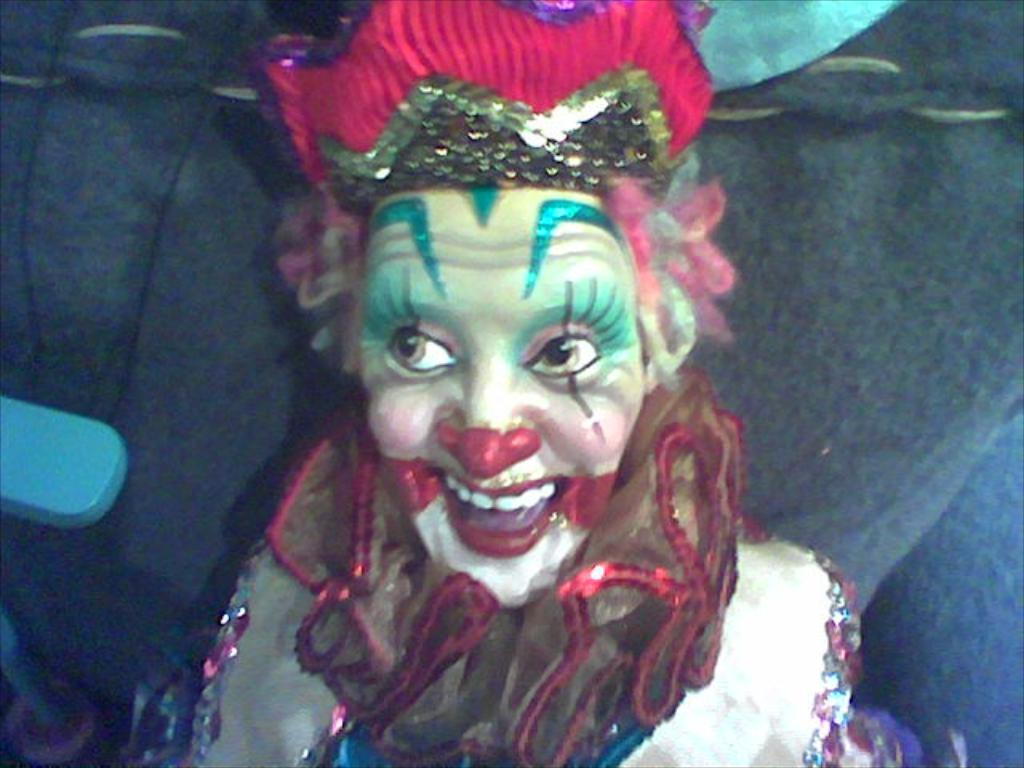Person: (176, 0, 928, 767)
